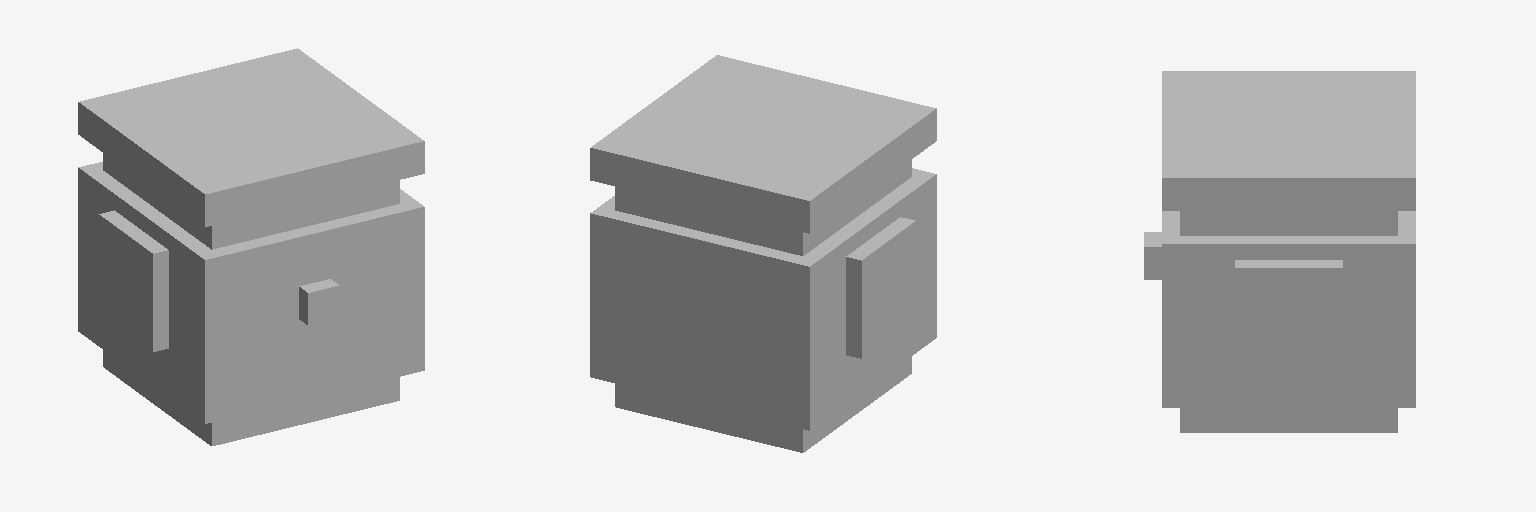
File: composting_electric_composter.obj
3 renders of one model, left to right at view 1: azimuth 30°, elevation 25°; view 2: azimuth 150°, elevation 25°; view 3: azimuth 270°, elevation 25°, orthographic.
Visible parts, largest first — view 1: node_0_0_0.001; view 2: node_0_0_0.001; view 3: node_0_0_0.001.
Part boxes in pixels (x1,y1,x2,y2): node_0_0_0.001: (78, 48, 424, 445); node_0_0_0.001: (590, 55, 936, 452); node_0_0_0.001: (1144, 71, 1415, 432).
Bounding box in the file's own units: 1 × 1 × 0.9375.